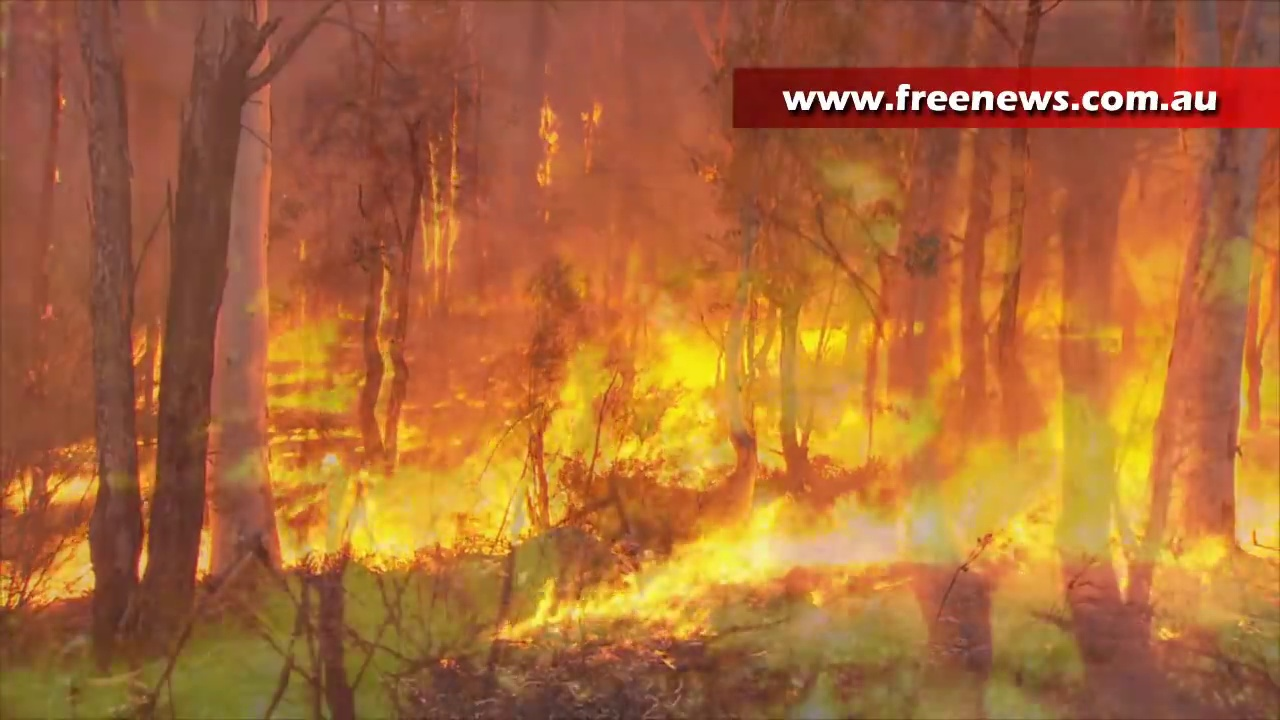fire: (538, 405, 1058, 654), (265, 457, 531, 571), (260, 309, 352, 425), (644, 324, 734, 396), (414, 148, 462, 281), (44, 545, 90, 599), (1235, 490, 1280, 545), (536, 105, 557, 186), (47, 475, 90, 499)
